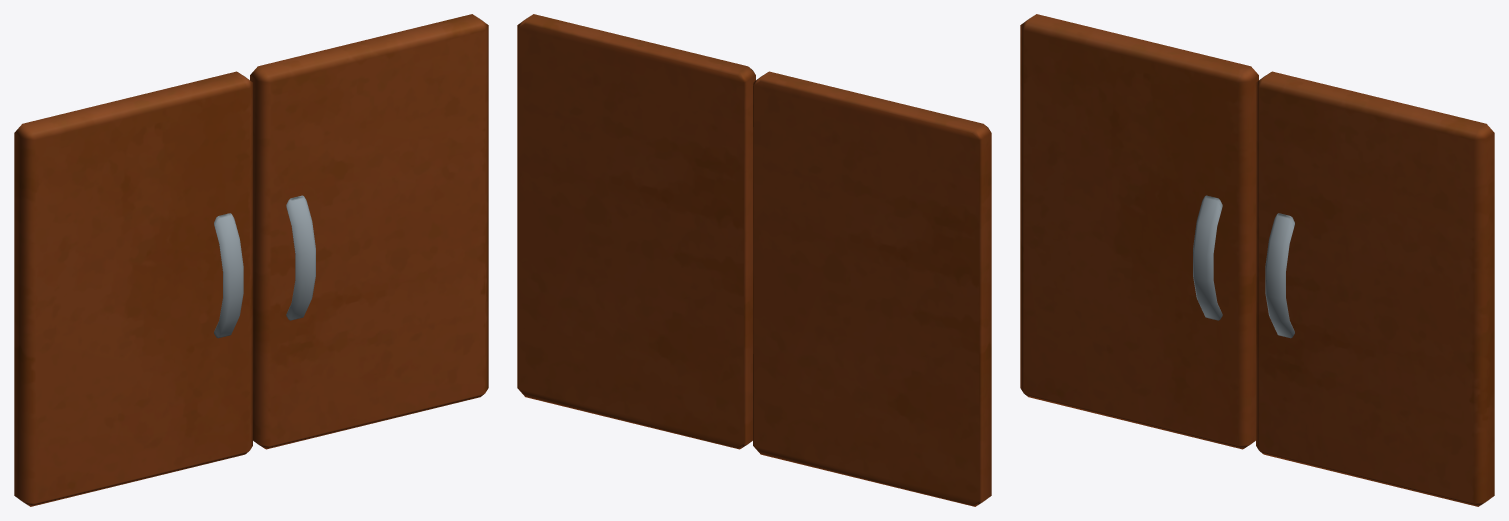
The model's file is Counter_Doors.fbx.
The picture shows the model from 3 angles, left to right: view 1: azimuth 30°, elevation 25°; view 2: azimuth 150°, elevation 25°; view 3: azimuth 330°, elevation 25°; orthographic projection.
Visible parts, largest first — view 1: Counter.002; view 2: Counter.002; view 3: Counter.002.
Part boxes in pixels (<box>): Counter.002: <box>14,14,488,506</box>; Counter.002: <box>517,14,991,506</box>; Counter.002: <box>1020,14,1494,506</box>.
Bounding box in the file's own units: 78.3 × 60.57 × 7.67.
